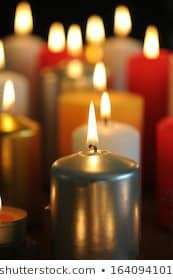fire: (11, 0, 34, 37), (142, 22, 161, 59), (85, 98, 99, 147), (0, 38, 8, 68)
